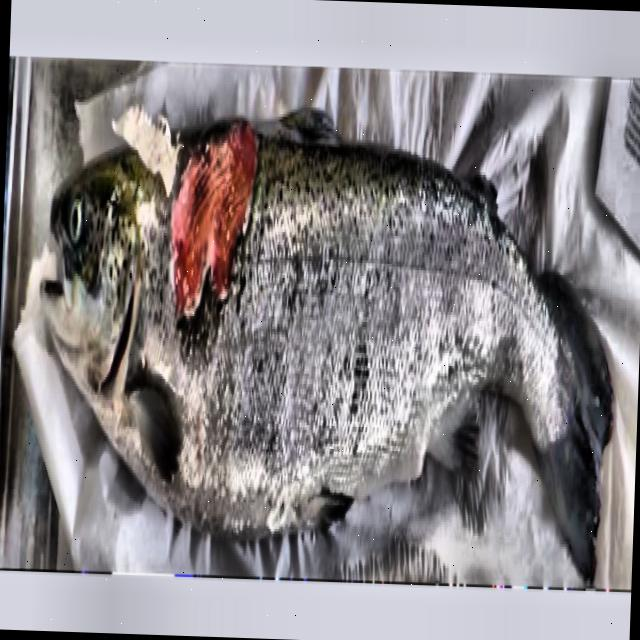mild_red: (72, 112, 575, 538)
wound: (168, 123, 263, 328), (99, 290, 132, 384)
